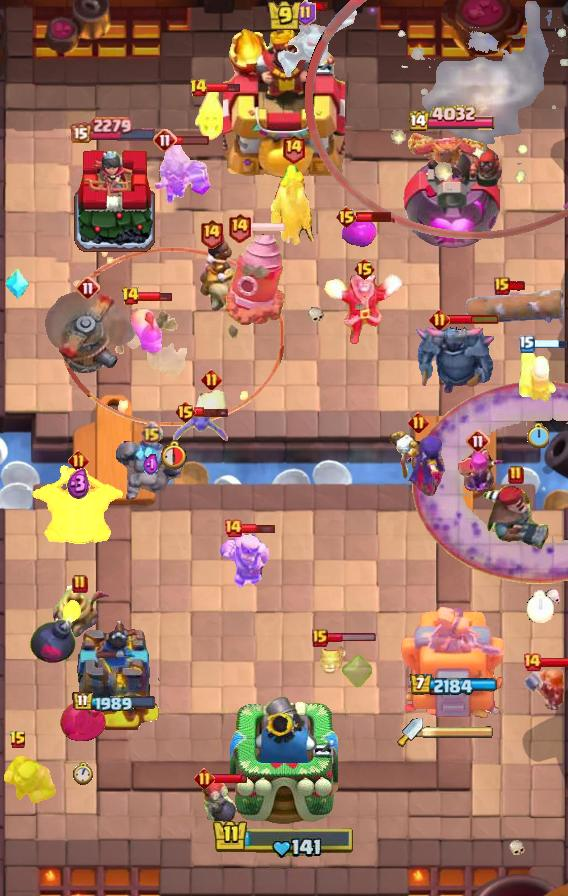archer-evolution: (453, 442, 503, 498)
bar: (447, 313, 500, 325), (326, 632, 377, 643), (356, 210, 393, 223), (137, 290, 173, 303), (205, 81, 241, 94), (241, 522, 276, 535), (249, 221, 286, 233), (212, 773, 248, 785), (194, 406, 230, 418), (174, 135, 210, 146), (533, 338, 568, 349), (539, 656, 568, 668), (508, 280, 527, 292), (313, 1, 330, 12)
bar-level: (199, 218, 224, 249), (227, 212, 252, 243), (281, 133, 306, 164), (466, 429, 490, 453), (76, 276, 100, 300), (153, 128, 177, 152), (174, 400, 197, 424), (353, 257, 376, 281), (335, 205, 358, 229), (295, 0, 316, 26), (140, 421, 163, 444), (194, 768, 215, 789), (68, 450, 89, 471), (408, 412, 429, 433), (201, 369, 222, 390), (429, 309, 450, 330), (522, 652, 542, 672), (223, 518, 243, 538), (121, 286, 140, 306), (189, 78, 208, 98), (9, 730, 27, 750), (72, 574, 88, 594), (508, 465, 524, 485), (312, 629, 328, 647), (519, 335, 535, 353), (494, 277, 510, 295)
barbarian-evolution: (219, 531, 269, 590)
bat-evolution: (171, 410, 231, 448)
bomb: (29, 597, 83, 665), (57, 693, 109, 747)
bomber: (200, 778, 240, 826)
cannoneer-tower: (400, 132, 507, 256)
clock: (526, 590, 554, 623), (158, 439, 187, 470), (527, 423, 549, 448), (73, 762, 93, 785)
dagger-duchess-tower: (399, 607, 507, 731)
dagger-duchess-tower-bar: (423, 725, 495, 739)
elixir: (67, 468, 90, 500), (143, 453, 159, 477)
elixir-golem-small: (341, 219, 377, 249)
evolution-symbol: (340, 653, 372, 689)
firecracker: (517, 346, 559, 404)
goblin-brawler: (0, 751, 60, 807)
golemite: (115, 435, 187, 503)
heal-spirit: (192, 88, 228, 142)
hunter: (481, 483, 551, 551)
ice-spirit-evolution-symbol: (4, 268, 30, 300)
ice-wizard: (321, 272, 407, 346)
king-tower: (223, 27, 345, 181), (230, 692, 338, 826)
king-tower-bar: (212, 818, 356, 860)
lava-pup: (193, 388, 229, 420), (317, 642, 349, 676)
mega-minion: (275, 5, 361, 83)
queen-tower: (66, 617, 162, 731), (71, 145, 157, 256)
ram-rider: (199, 233, 255, 321)
royal-hog: (130, 301, 162, 353)
the-log: (464, 284, 566, 328)
tower-bar: (409, 105, 498, 134), (70, 116, 158, 143), (409, 674, 497, 697), (72, 691, 157, 714)
valkyrie: (522, 667, 566, 717)
valkyrie-evolution: (153, 141, 213, 207)
witch: (388, 428, 448, 496)
zappy: (49, 584, 111, 640)
